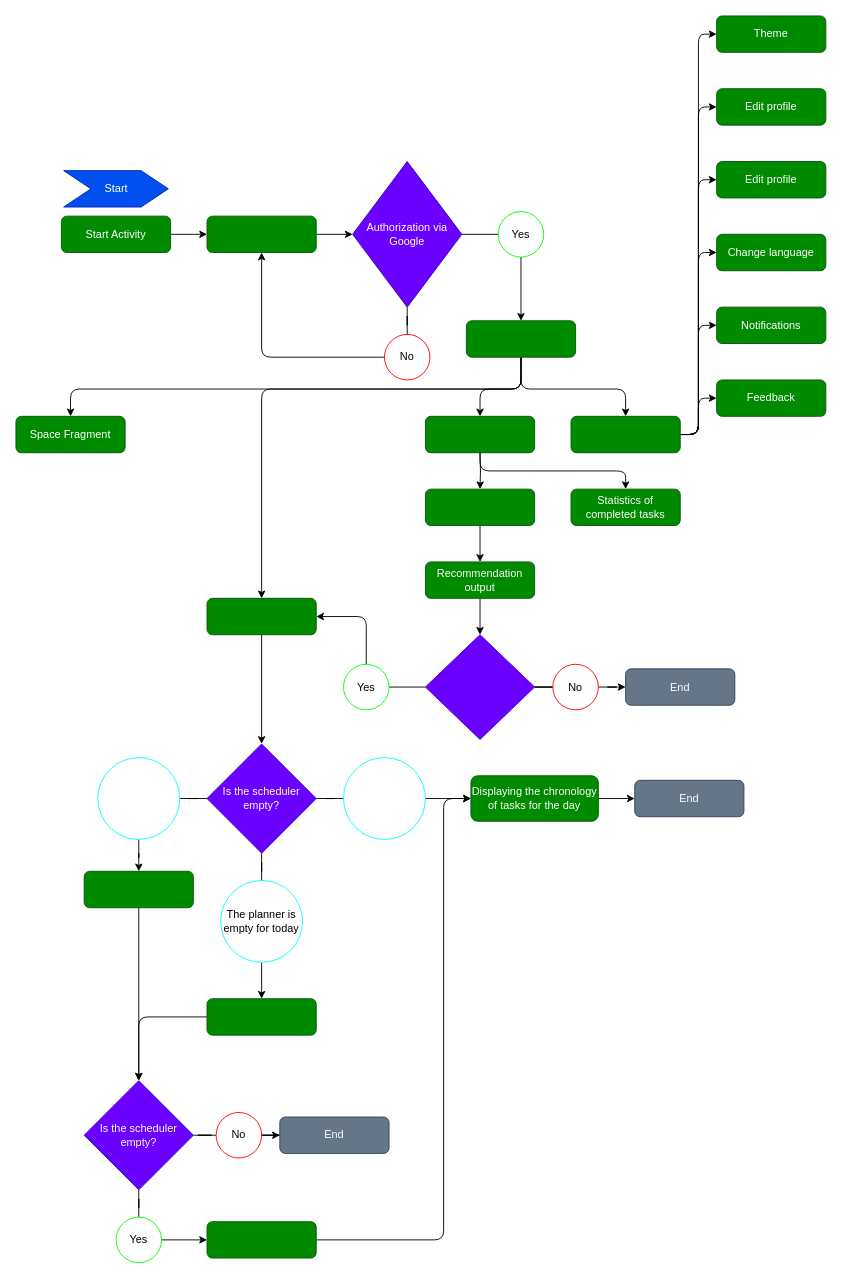
The diagram is 842 pixels wide and 1279 high, and some of its shapes have lost their labels. Each missing label, with the box of its shape:
Change task scheduling?: (425, 634, 535, 739)
Compiling the first task: (83, 870, 193, 908)
Completing the task: (206, 1221, 316, 1258)
Displaying an empty day: (206, 998, 316, 1035)
Focus Fragment: (206, 597, 316, 635)
Login Activity: (206, 215, 316, 253)
Main Activity: (465, 320, 576, 357)
Productivity analysis: (425, 488, 535, 526)
Profile Fragment: (570, 415, 680, 453)
Statistics Fragment: (425, 415, 535, 453)
The scheduler is empty: (97, 757, 180, 839)
The scheduler is not empty: (343, 757, 425, 839)
